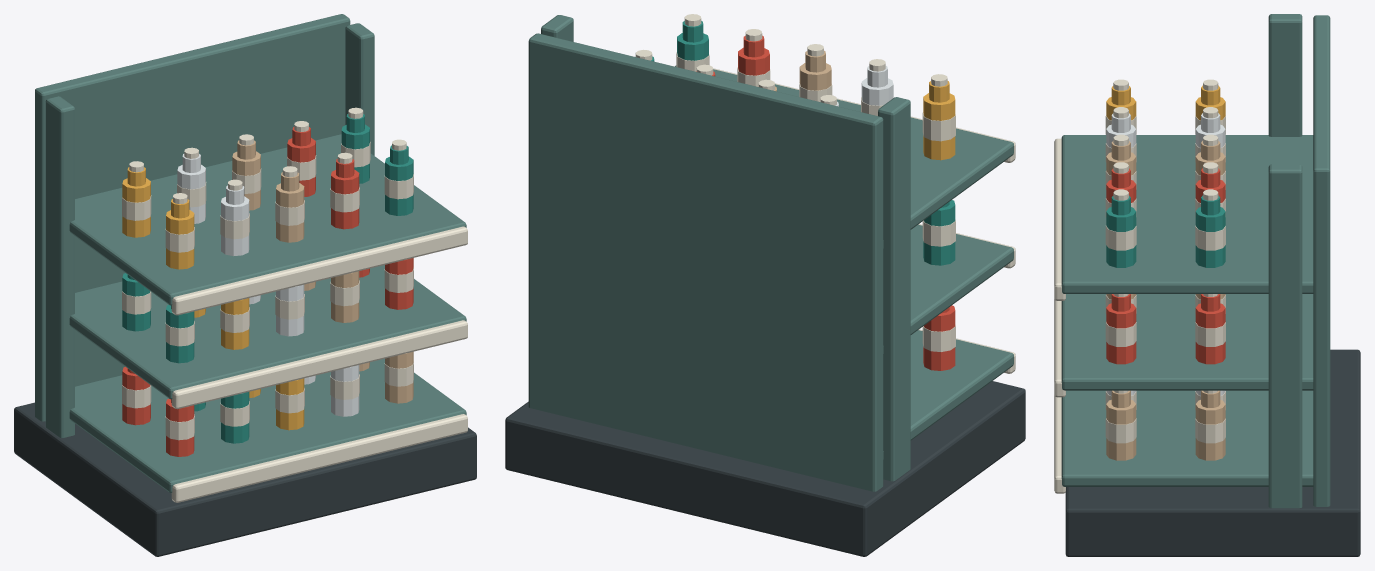
Rendered from boxbox-drink-gondola.glb.
3 views of the same model, side by side, from view 1: azimuth 30°, elevation 25°; view 2: azimuth 150°, elevation 25°; view 3: azimuth 270°, elevation 25° (orthographic). The views are drawn at different scales.
Visible parts, largest first — view 1: ShelfEnamel, Label, Trim, Tomato, Teal, Amber, Paper, Milk; view 2: ShelfEnamel, Trim, Label, Tomato, Teal, Amber, Paper, Milk; view 3: ShelfEnamel, Trim, Label, Paper, Tomato, Teal, Milk, Amber.
Boxes of the visible parts, <box> form: ShelfEnamel: <box>35,14,466,492</box>; Label: <box>122,107,467,502</box>; Trim: <box>14,402,476,556</box>; Tomato: <box>122,127,413,456</box>; Teal: <box>122,114,413,443</box>; Amber: <box>122,167,304,430</box>; Paper: <box>232,140,413,403</box>; Milk: <box>177,154,359,416</box>; ShelfEnamel: <box>528,15,1013,491</box>; Trim: <box>505,381,1025,556</box>; Label: <box>635,14,1015,373</box>; Tomato: <box>696,35,955,370</box>; Teal: <box>651,21,955,265</box>; Amber: <box>923,81,955,160</box>; Paper: <box>758,50,831,91</box>; Milk: <box>835,66,893,106</box>; ShelfEnamel: <box>1061,14,1330,508</box>; Trim: <box>1065,349,1360,556</box>; Label: <box>1054,79,1225,493</box>; Paper: <box>1106,140,1225,460</box>; Tomato: <box>1106,168,1225,364</box>; Teal: <box>1106,195,1225,267</box>; Milk: <box>1106,113,1225,395</box>; Amber: <box>1106,85,1225,120</box>.
Bounding box in the file's own units: 0.79 × 0.88 × 0.633.
